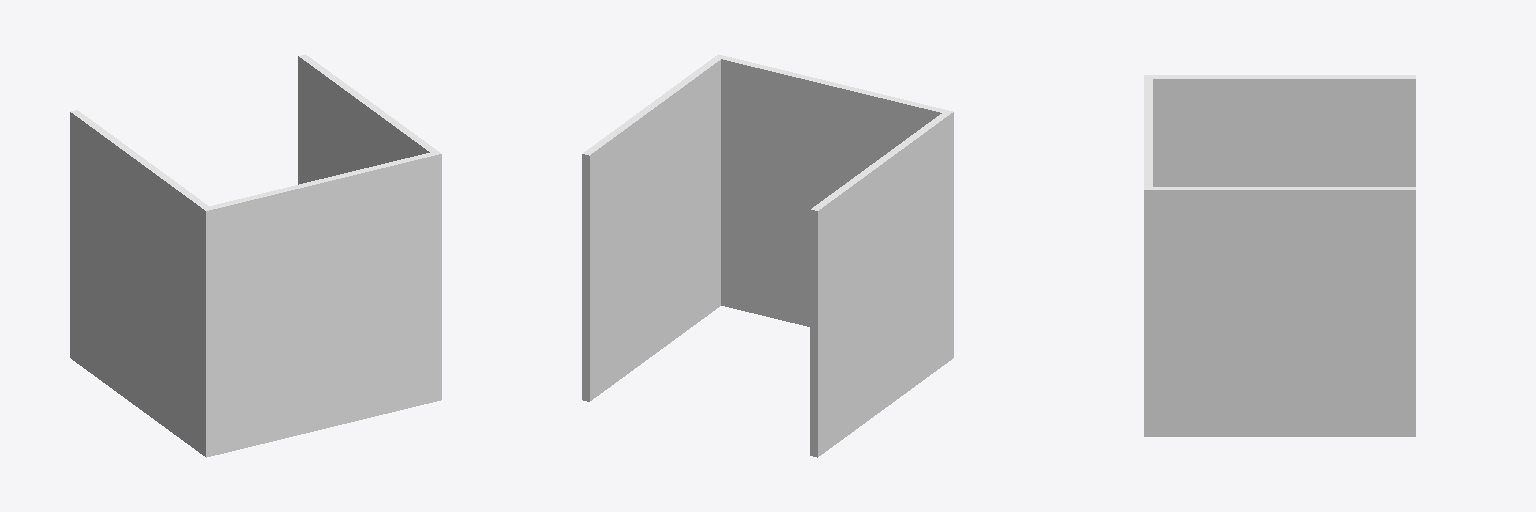
3 views of the same model, side by side, from view 1: azimuth 30°, elevation 25°; view 2: azimuth 150°, elevation 25°; view 3: azimuth 270°, elevation 25° (orthographic).
Visible parts, largest first — view 1: test-42; view 2: test-42; view 3: test-42.
Part boxes in pixels (x1,y1,x2,y2): test-42: (70,54,441,457); test-42: (582,54,953,457); test-42: (1144,75,1415,436).
Bounding box in the file's own units: 32 × 32 × 32.